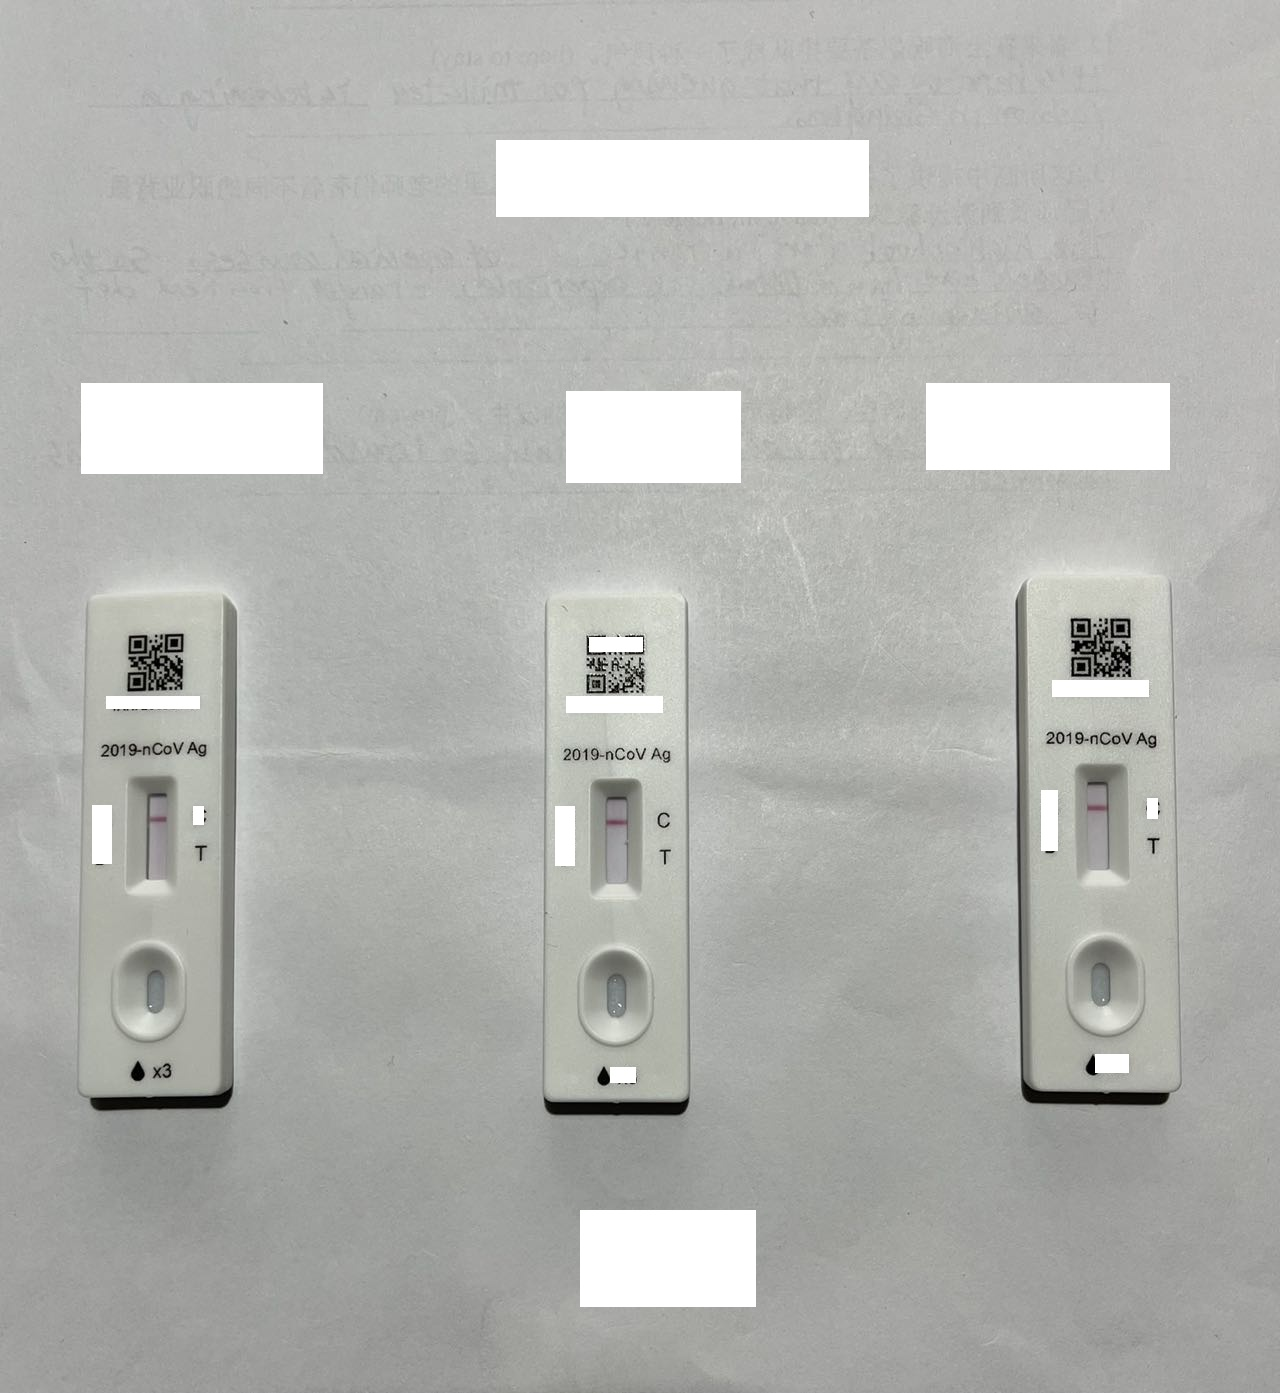negative: (1073, 761, 1130, 886), (123, 774, 176, 894), (590, 777, 641, 900)
